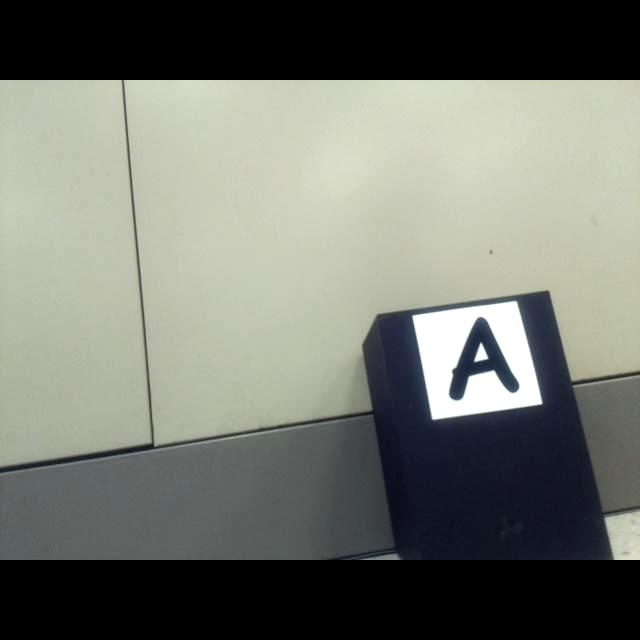A: (449, 317, 520, 402)
